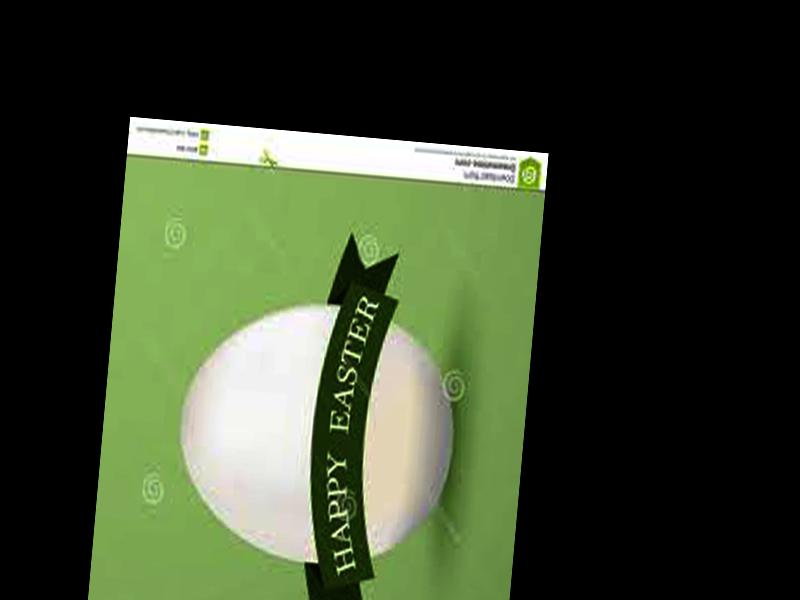Eggs: (170, 291, 463, 571)
